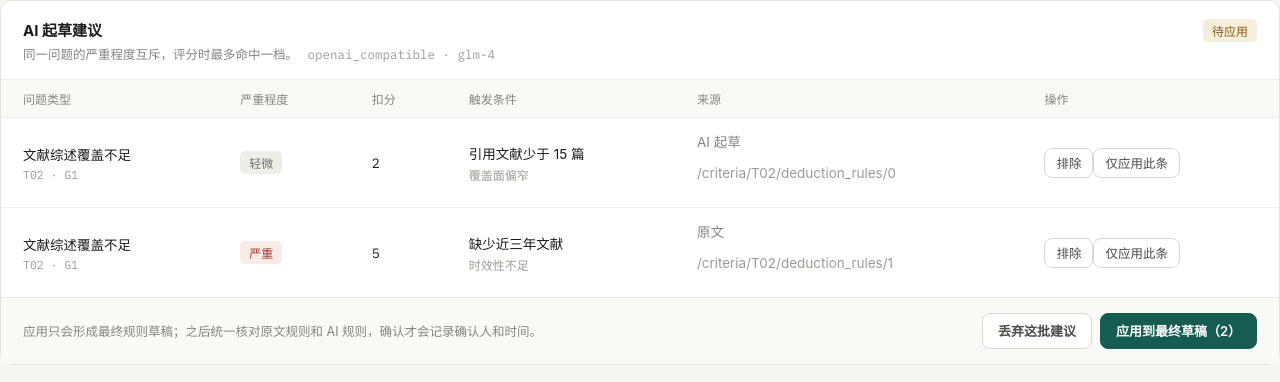
Test: AI 起草选择面板 › 全部排除后不能应用——那会产出一个没有任何规则的 deductive 评分项
The image size is (1280, 382).
Click the button with test id "exclude" in the row of "轻微" at {"x": 1069, "y": 163}, box x1=1044 y1=148 x2=1093 y2=178
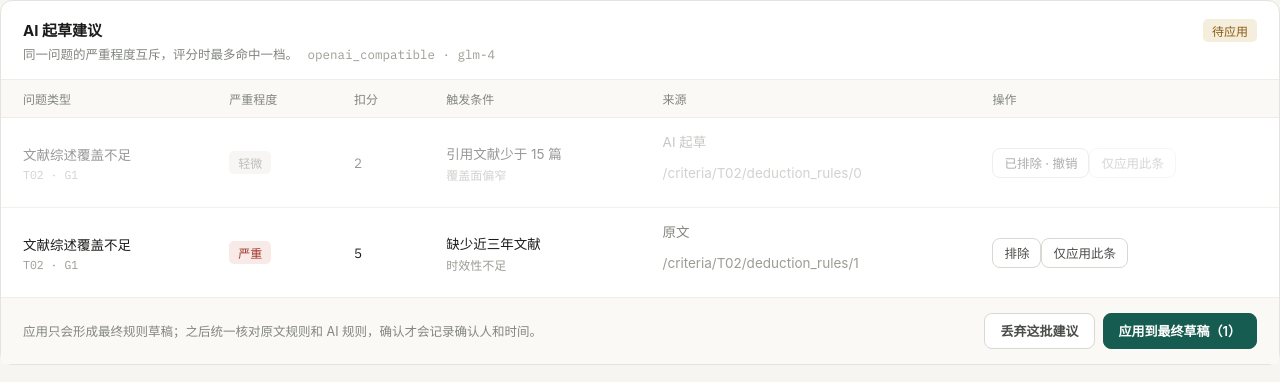
Click the button with test id "exclude" showing "排除" at {"x": 1017, "y": 253}, box x1=992 y1=238 x2=1041 y2=268
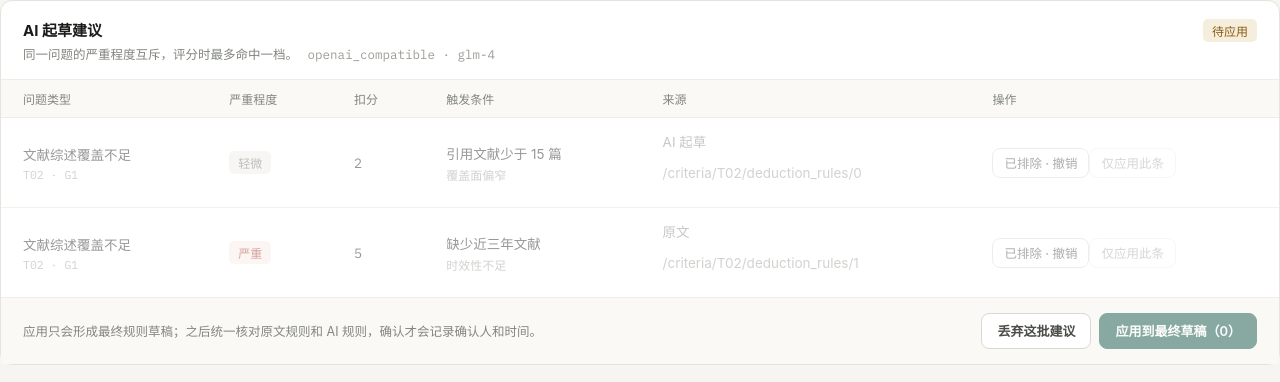
Check: the button with test id "apply" is disabled, box x1=1099 y1=313 x2=1257 y2=349
